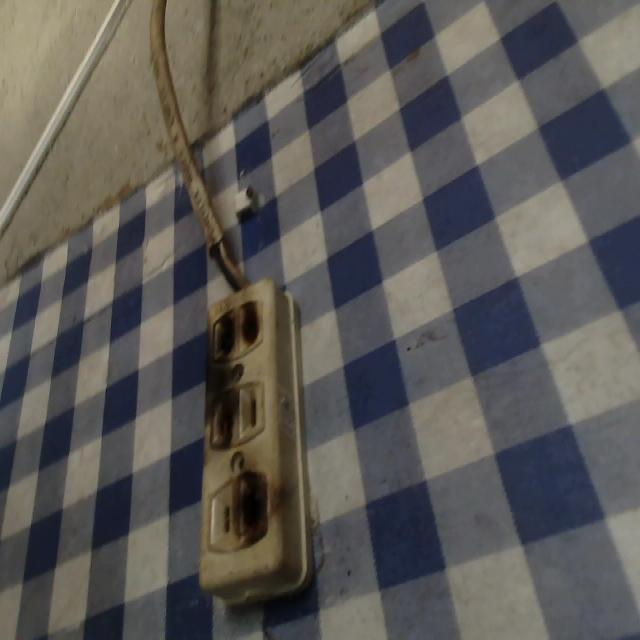-: (209, 300, 263, 359), (235, 469, 270, 542), (208, 381, 239, 451)
